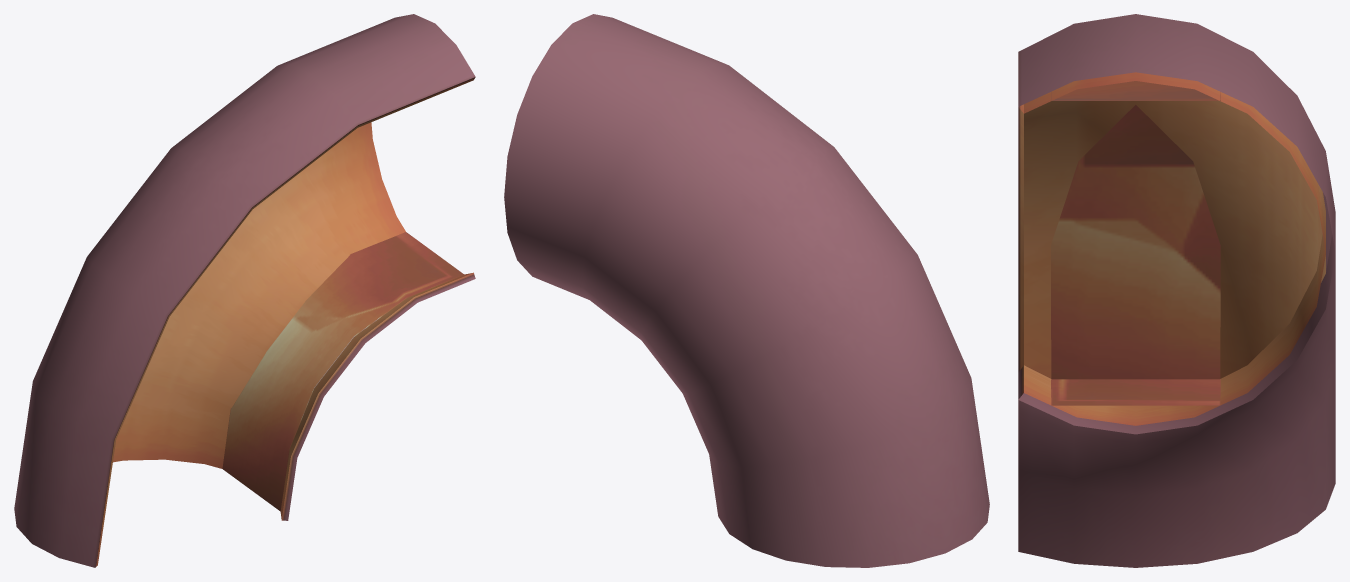
Rendered from openPipe_90corner 1.fbx.
The picture shows the model from 3 angles, left to right: view 1: azimuth 30°, elevation 25°; view 2: azimuth 150°, elevation 25°; view 3: azimuth 270°, elevation 25°; orthographic projection. The views are drawn at different scales.
Parts seen in each view (by area): view 1: openPipe_90corner; view 2: openPipe_90corner; view 3: openPipe_90corner.
Part boxes in pixels (bbox=[...]): openPipe_90corner: bbox=[14, 14, 475, 567]; openPipe_90corner: bbox=[504, 14, 989, 567]; openPipe_90corner: bbox=[1018, 14, 1335, 567].
Size of the model in its own units: 4.97 by 4.97 by 2.33.
1 material, 1 textured.
